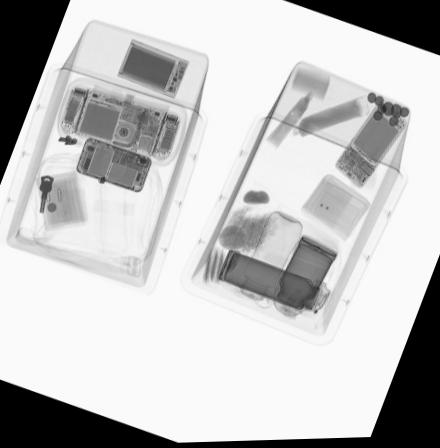Powerbank: (115, 38, 188, 100)
